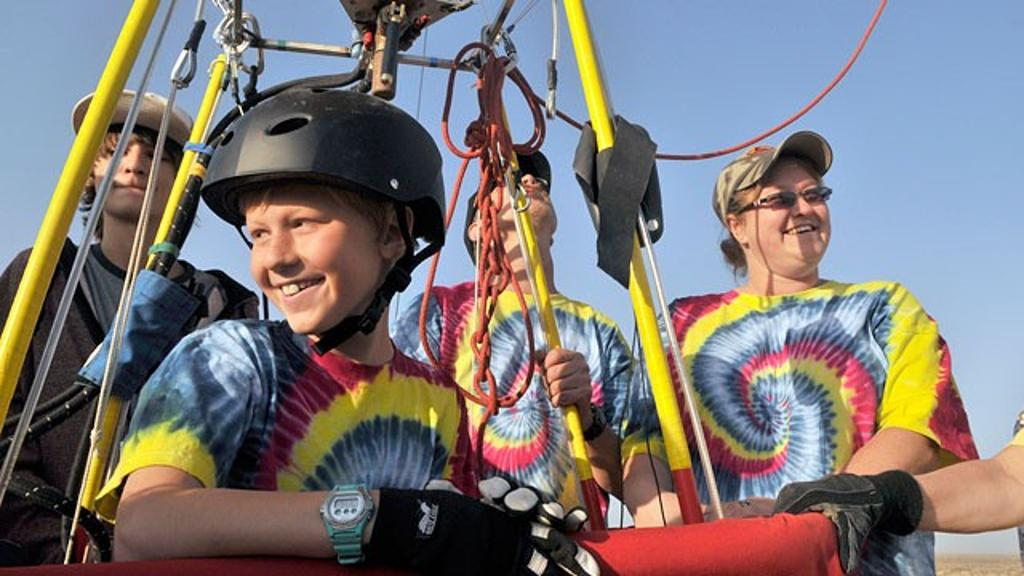face: (248, 166, 368, 330), (746, 162, 832, 266), (94, 114, 178, 216), (488, 164, 558, 224)
